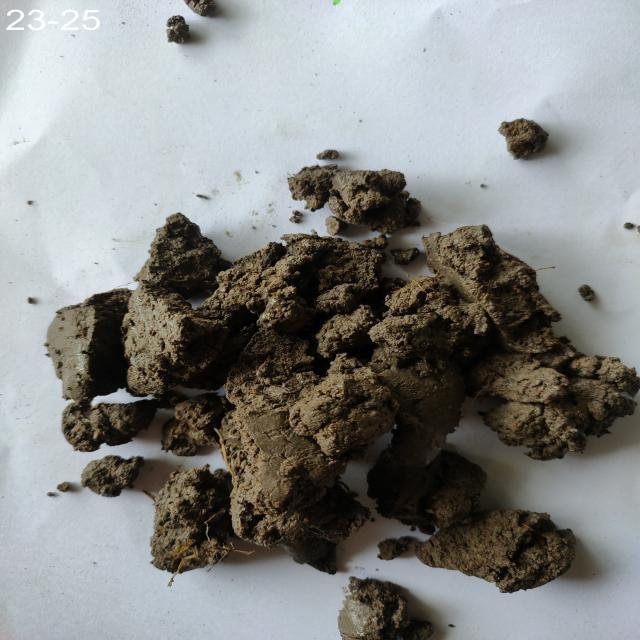soil: (174, 276, 461, 492)
